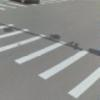crosswalks: (0, 22, 100, 100)
